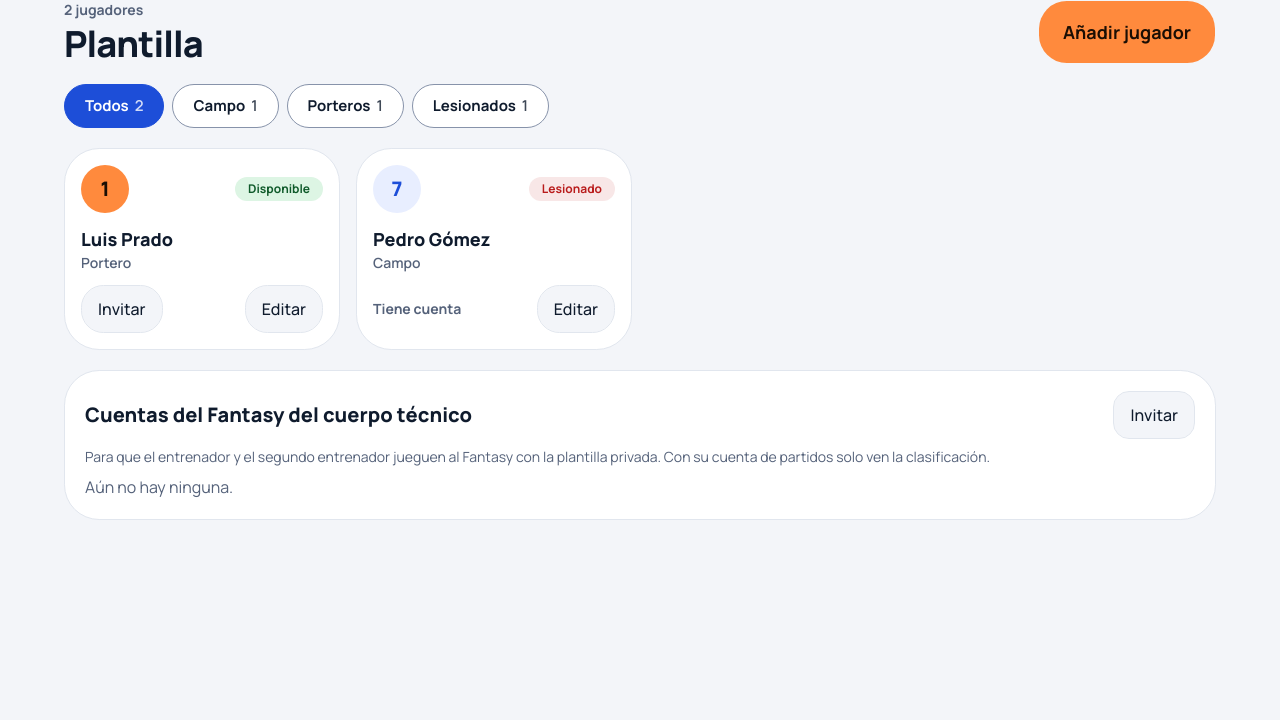
PlantillaPage › muestra el error de dorsal repetido sin cerrar el formulario
This screenshot has width=1280, height=720.
Check: the text "Luis Prado" is shown, box [81,227,173,251]
Click the button "Añadir jugador" at point(1127, 32), box [1038,0,1216,64]
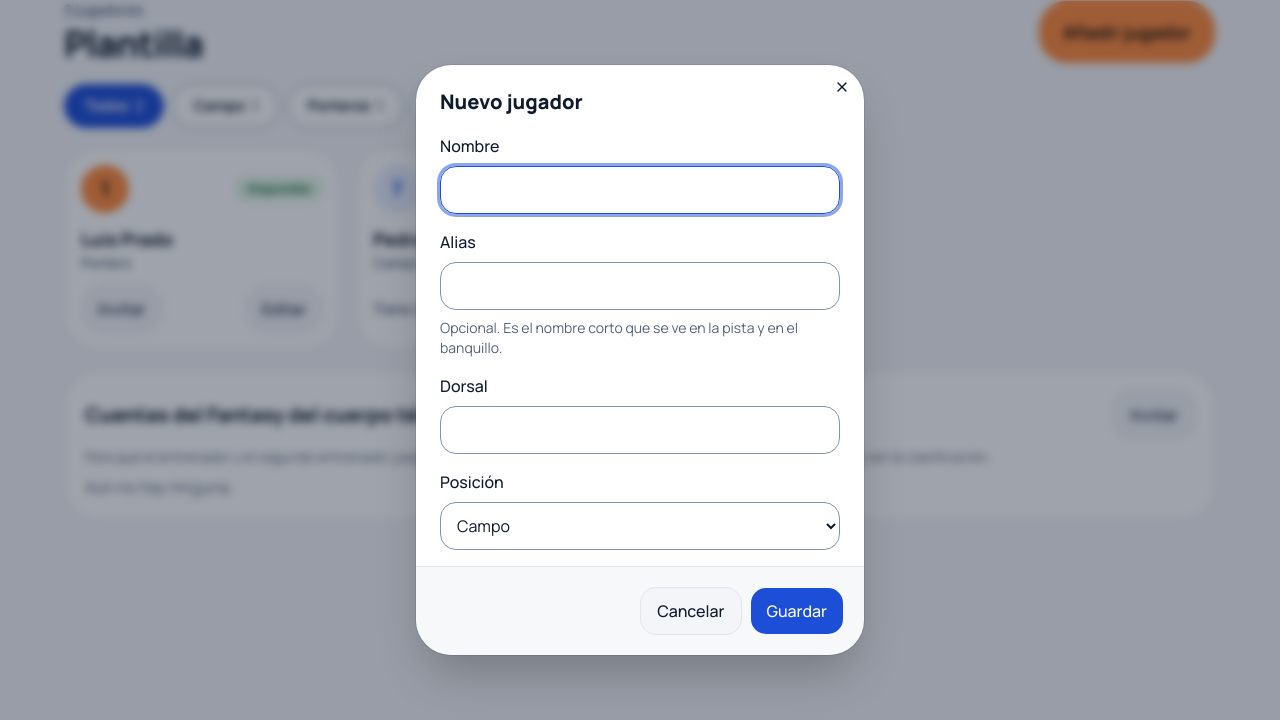
Type "Ana López" into the field labelled "Nombre" at point(640, 190), box [440,166,840,214]
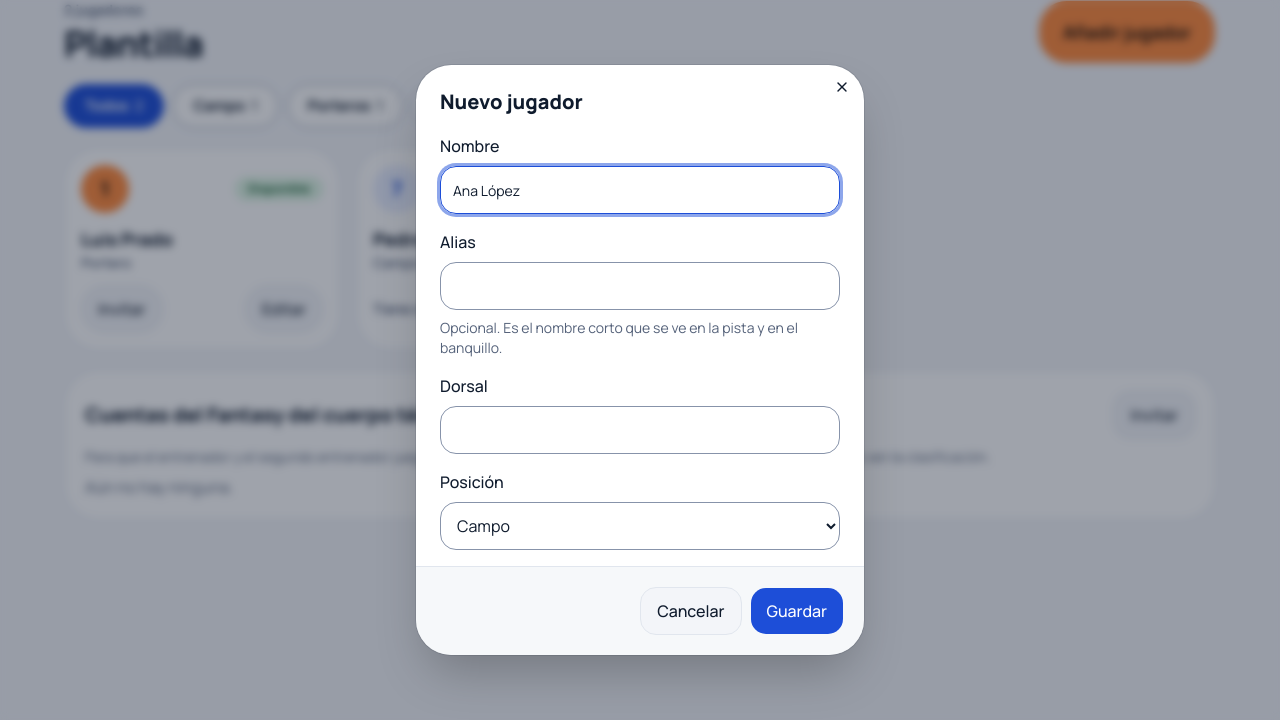
Type "7" into the field labelled "Dorsal" at point(640, 430), box [440,406,840,454]
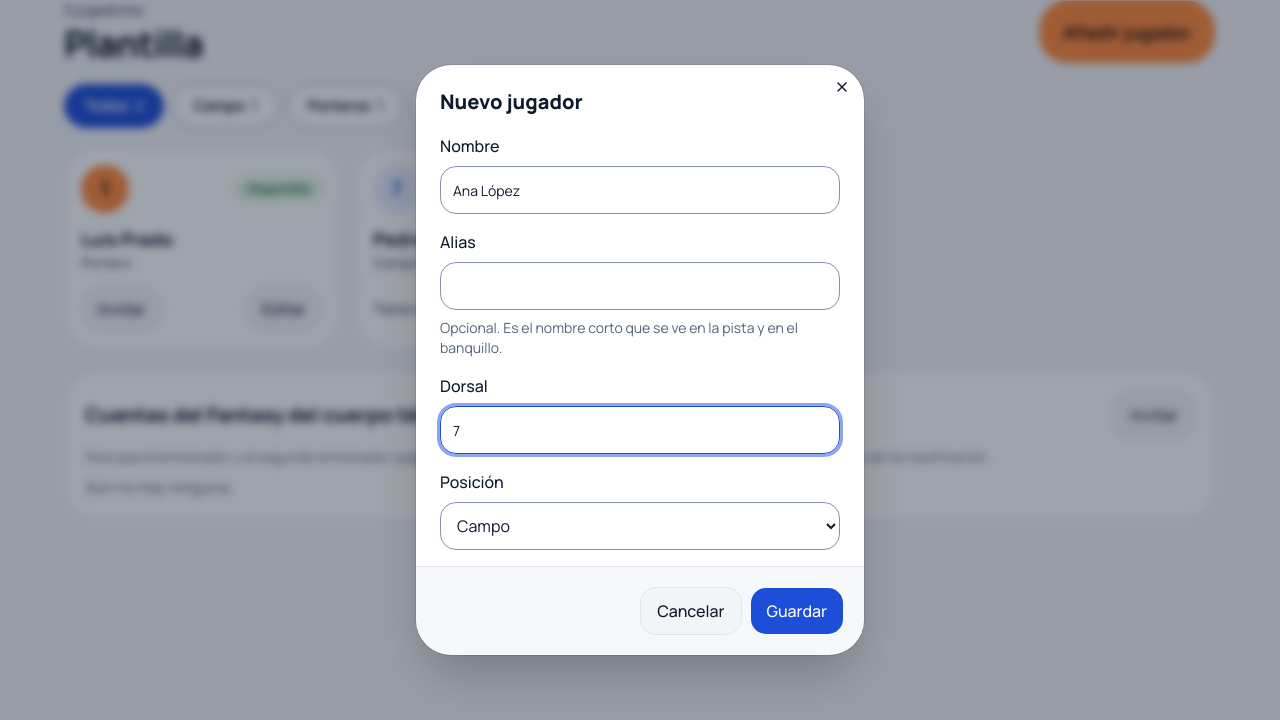
Click the button "Guardar" at point(797, 611), box [750,587,844,635]
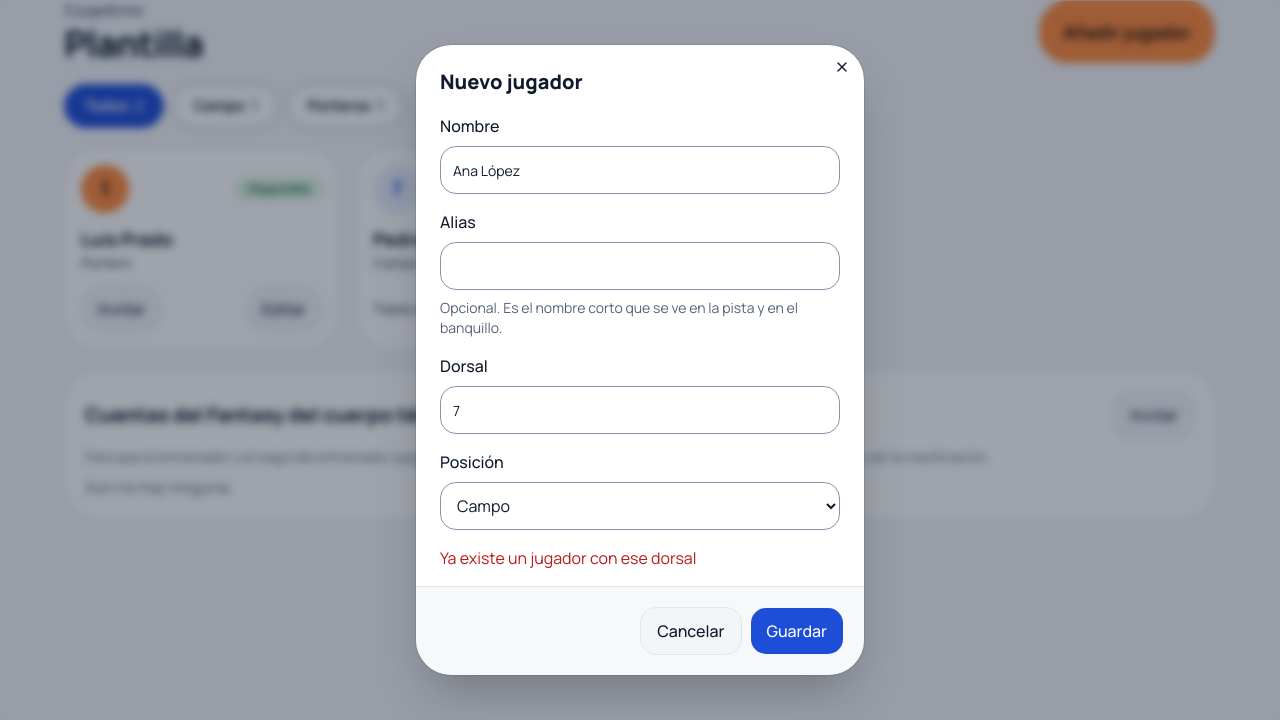
Check: the dialog is shown, box [416,45,864,675]
Check: the text "Ya existe un jugador con ese dorsal" is shown, box [440,547,696,569]
